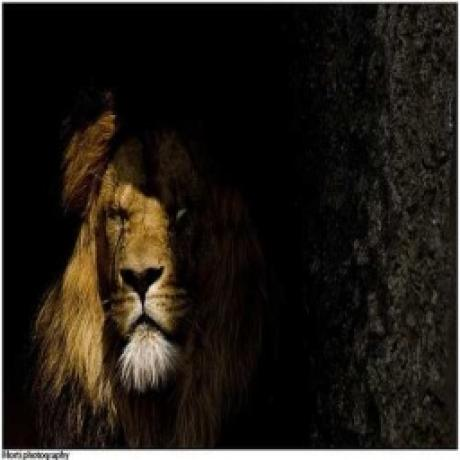Lion: (34, 92, 239, 448)
